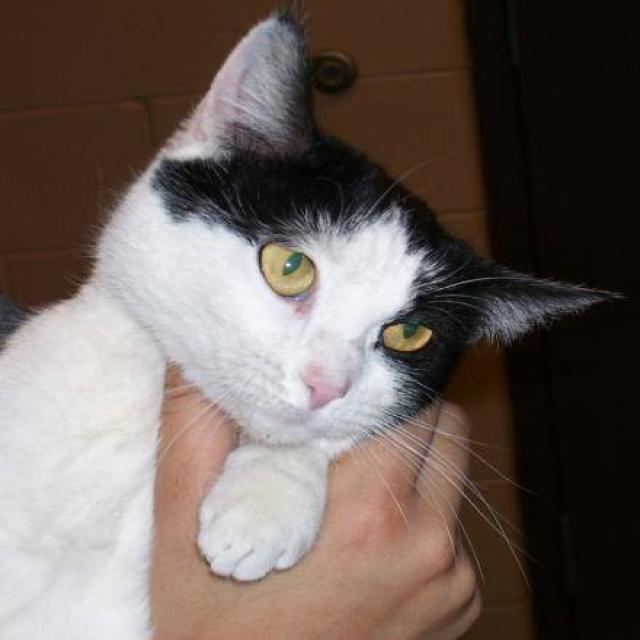cat: (0, 0, 625, 638)
